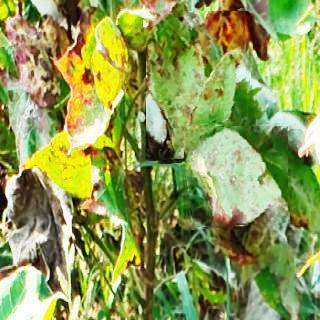blight: (146, 11, 256, 162), (183, 126, 288, 228)
